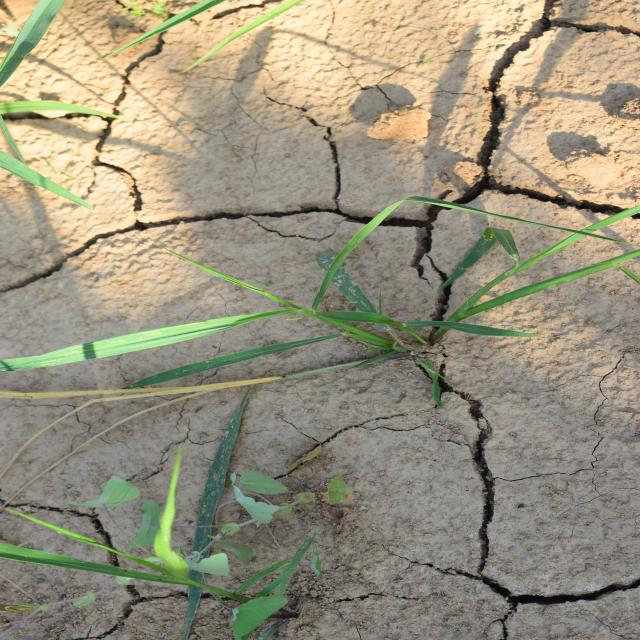green_foxtail: (264, 66, 416, 459)
